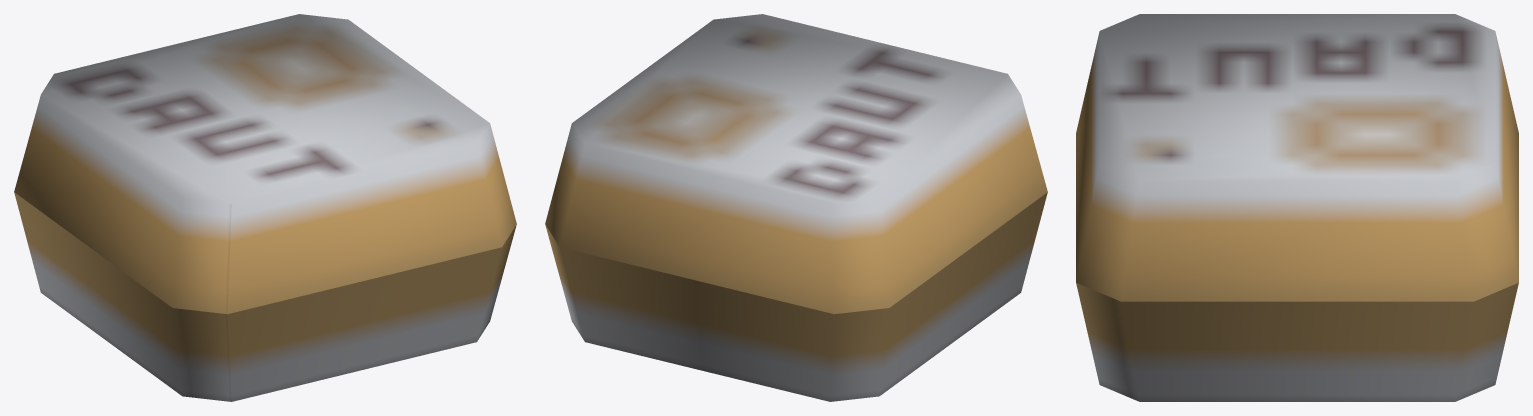
Rendered from Pixel_Misc_S_0031.fbx.
3 renders of one model, left to right at view 1: azimuth 30°, elevation 25°; view 2: azimuth 150°, elevation 25°; view 3: azimuth 270°, elevation 25°, orthographic. The views are drawn at different scales.
Parts seen in each view (by area): view 1: Pixel_Misc_S_0031; view 2: Pixel_Misc_S_0031; view 3: Pixel_Misc_S_0031.
Part boxes in pixels (x1,y1,x2,y2): Pixel_Misc_S_0031: (14,14,516,401); Pixel_Misc_S_0031: (545,14,1047,401); Pixel_Misc_S_0031: (1076,14,1518,401).
Bounding box in the file's own units: 22.39 × 12.31 × 22.39.
